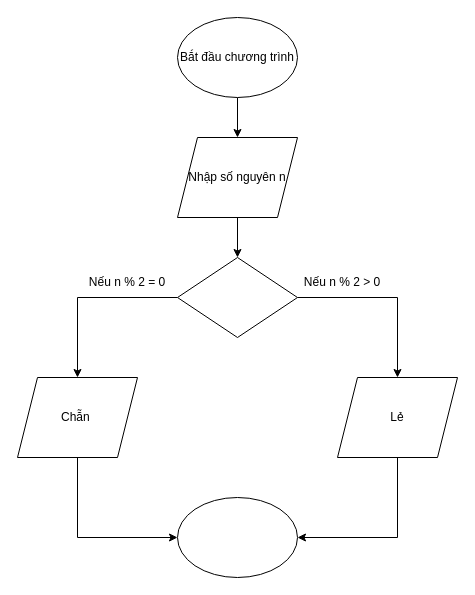
The diagram is 475 pixels wide and 595 high, and some of its shapes have lost their labels. Here are the shapes that lost their labels. From the top down, the box of each, then its label:
(176, 256, 298, 338): Kiểm tra điều kiện
(176, 496, 298, 578): Kết thúc chương trình
